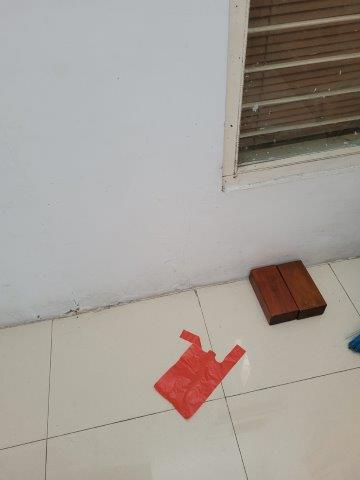plastik: (153, 329, 246, 421)
